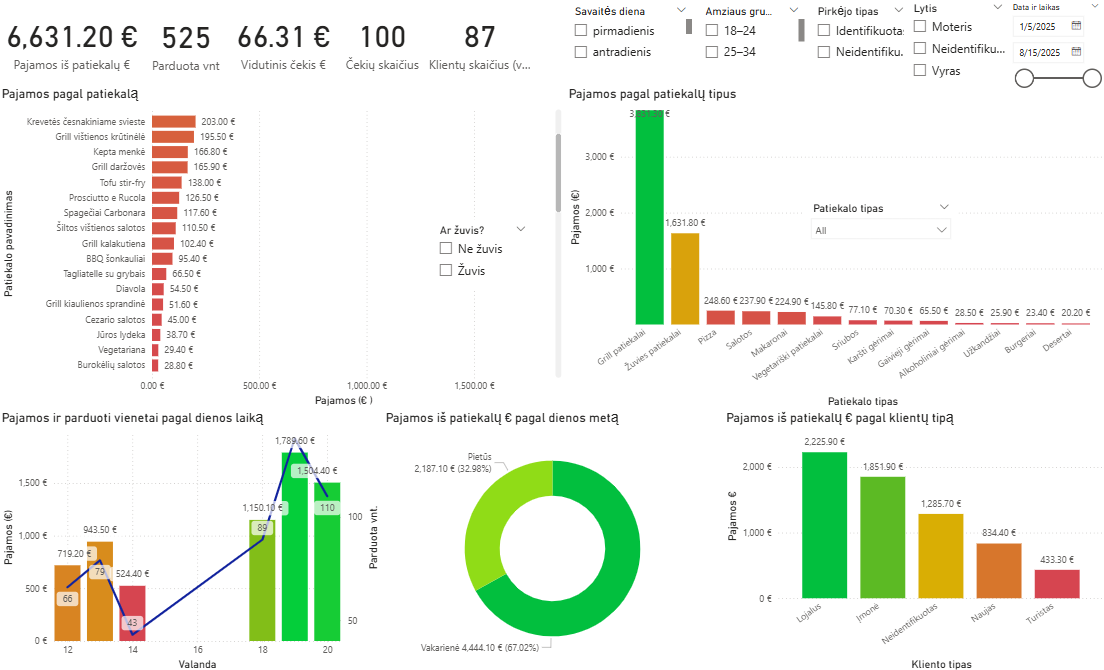

The dashboard page shown, as its layout file describes it:
{"tool":"powerbi","page":{"name":"Bendra apžvalga: pardavimai ir patiekalai","canvas":[1480,900],"ordinal":0},"visuals":[{"type":"clusteredColumnChart","title":"Pajamos pagal patiekalų tipus","fields":{"Category":["restoranas_db patiekalu_tipai.pavadinimas"],"Y":["Matuokliai.Pajamos iš patiekalų €"]},"box":[756,116,724,434],"z":0},{"type":"card","fields":{"Values":["Matuokliai.Pajamos iš patiekalų €"]},"box":[0,0,196,114],"z":1000},{"type":"card","fields":{"Values":["Matuokliai.Parduota vnt"]},"box":[196,2,108,114],"z":2000},{"type":"card","fields":{"Values":["Matuokliai.Vidutinis čekis €"]},"box":[304,0,152,114],"z":3000},{"type":"card","fields":{"Values":["Matuokliai.Čekių skaičius"]},"box":[456,0,112,116],"z":4000},{"type":"slicer","fields":{"Values":["restoranas_db pardavimai.Data_date"]},"box":[1340,0,140,126],"z":5000},{"type":"slicer","fields":{"Values":["restoranas_db patiekalu_tipai.pavadinimas"]},"box":[1073.3,265,206.7,63.3],"z":6000},{"type":"clusteredBarChart","title":" Pajamos pagal patiekalą  ","fields":{"Y":["Matuokliai.Pajamos iš patiekalų €"],"Category":["restoranas_db patiekalai.pavadinimas"]},"box":[0,116,756,432],"z":7000},{"type":"lineClusteredColumnComboChart","title":"Pajamos ir parduoti vienetai pagal dienos laiką","fields":{"Category":["restoranas_db pardavimai.Valanda"],"Y":["Matuokliai.Pajamos iš patiekalų €"],"Y2":["Matuokliai.Parduota vnt"]},"box":[0,548,512,352],"z":8000},{"type":"slicer","fields":{"Values":["restoranas_db patiekalai.Ar_žuvis"]},"box":[576,296,140,92],"z":9000},{"type":"donutChart","title":"Pajamos iš patiekalų € pagal dienos metą","fields":{"Category":["restoranas_db pardavimai.Dienos metas"],"Y":["Matuokliai.Pajamos iš patiekalų €"]},"box":[512,548,454,352],"z":10000},{"type":"columnChart","title":"Pajamos iš patiekalų € pagal klientų tipą","fields":{"Y":["Matuokliai.Pajamos iš patiekalų €"],"Category":["restoranas_db apsilankymai.Kliento_tipas_label"]},"box":[966,548,514,352],"z":11000},{"type":"slicer","fields":{"Values":["restoranas_db apsilankymai.Pirkėjo_tipai"]},"box":[1080,2,140,112],"z":12000},{"type":"card","fields":{"Values":["Matuokliai.Klientų skaičius (visi pirkėjai)"]},"box":[568,8,148,100],"z":13000},{"type":"slicer","fields":{"Values":["restoranas_db apsilankymai.Lytis_label"]},"box":[1208,0,144,126],"z":14000},{"type":"slicer","fields":{"Values":["restoranas_db klientai.Amziaus_grupe"]},"box":[930,2,150,90],"z":15000},{"type":"slicer","fields":{"Values":["Kalendorius2.WeekdayName_LT"]},"box":[756,2,174,90],"z":16000}]}

Visuals, with their boxes in screenshot pixels (x1, y1, x2, y2), scaled from the page's 1480x900 canvas onto the 1104x670 screenshot:
"Pajamos pagal patiekalų tipus" clusteredColumnChart: bbox=(564, 86, 1103, 409)
card - Matuokliai.Pajamos iš patiekalų €: bbox=(0, 0, 146, 85)
card - Matuokliai.Parduota vnt: bbox=(146, 1, 227, 86)
card - Matuokliai.Vidutinis čekis €: bbox=(227, 0, 340, 85)
card - Matuokliai.Čekių skaičius: bbox=(340, 0, 424, 86)
slicer - restoranas_db pardavimai.Data_date: bbox=(1000, 0, 1103, 94)
slicer - restoranas_db patiekalu_tipai.pavadinimas: bbox=(801, 197, 955, 244)
" Pajamos pagal patiekalą  " clusteredBarChart: bbox=(0, 86, 564, 408)
"Pajamos ir parduoti vienetai pagal dienos laiką" lineClusteredColumnComboChart: bbox=(0, 408, 382, 669)
slicer - restoranas_db patiekalai.Ar_žuvis: bbox=(430, 220, 534, 289)
"Pajamos iš patiekalų € pagal dienos metą" donutChart: bbox=(382, 408, 721, 669)
"Pajamos iš patiekalų € pagal klientų tipą" columnChart: bbox=(721, 408, 1103, 669)
slicer - restoranas_db apsilankymai.Pirkėjo_tipai: bbox=(806, 1, 910, 85)
card - Matuokliai.Klientų skaičius (visi pirkėjai): bbox=(424, 6, 534, 80)
slicer - restoranas_db apsilankymai.Lytis_label: bbox=(901, 0, 1009, 94)
slicer - restoranas_db klientai.Amziaus_grupe: bbox=(694, 1, 806, 68)
slicer - Kalendorius2.WeekdayName_LT: bbox=(564, 1, 694, 68)
